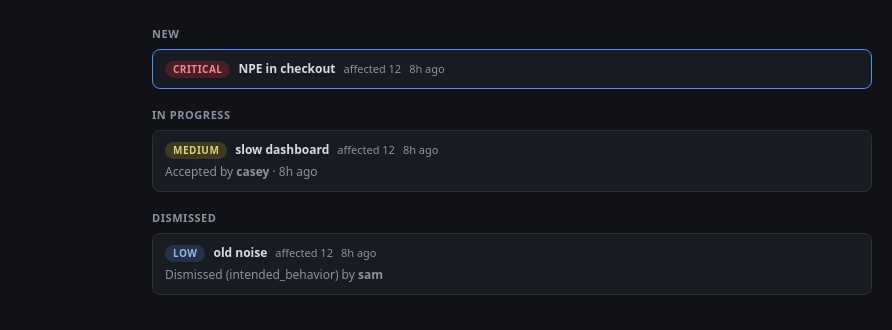
Scenario: InboxView › detail-load errors surface instead of vanishing
The image size is (892, 330).
Click the button with test id "inbox-row" that starts with "critical".
click(198, 69)  # box left=152, top=49, right=872, bottom=89
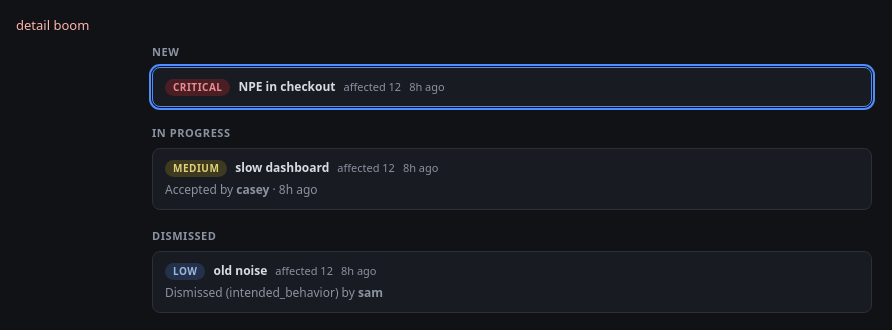
Expected: the message with test id "inbox-error" reads "detail boom", left=16, top=16, right=89, bottom=34
